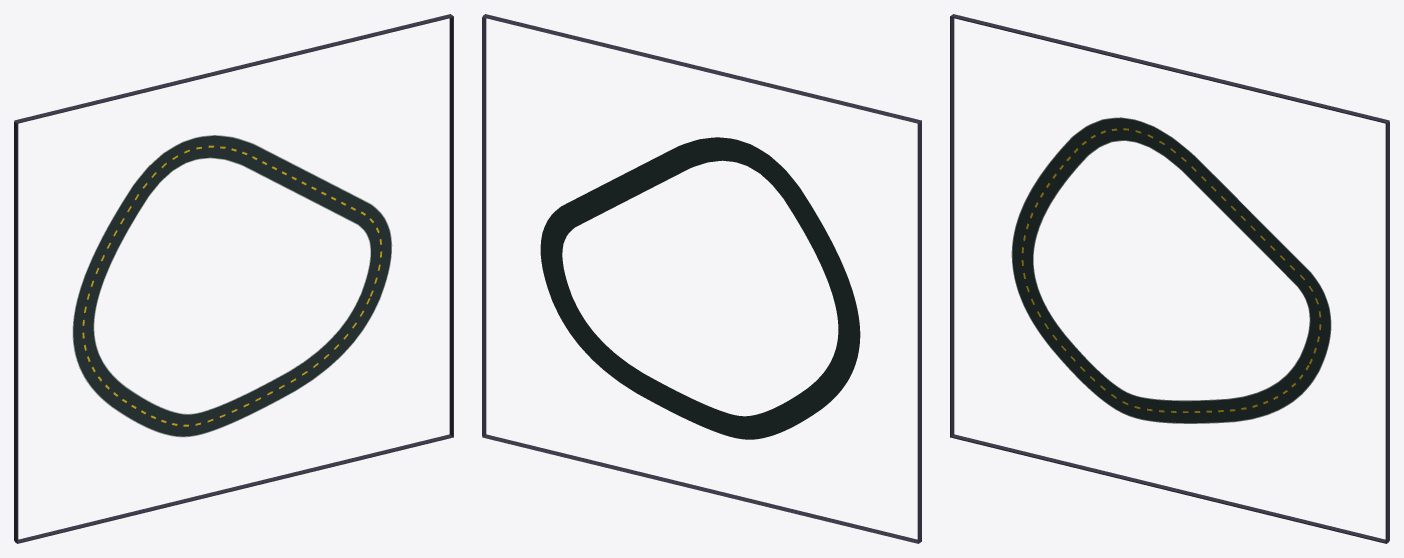
File: track.obj
3 renders of one model, left to right at view 1: azimuth 30°, elevation 25°; view 2: azimuth 150°, elevation 25°; view 3: azimuth 330°, elevation 25°, orthographic.
Size of the model in its own units: 23.32 by 21.49 by 0.3.
4 materials, 4 textured.
